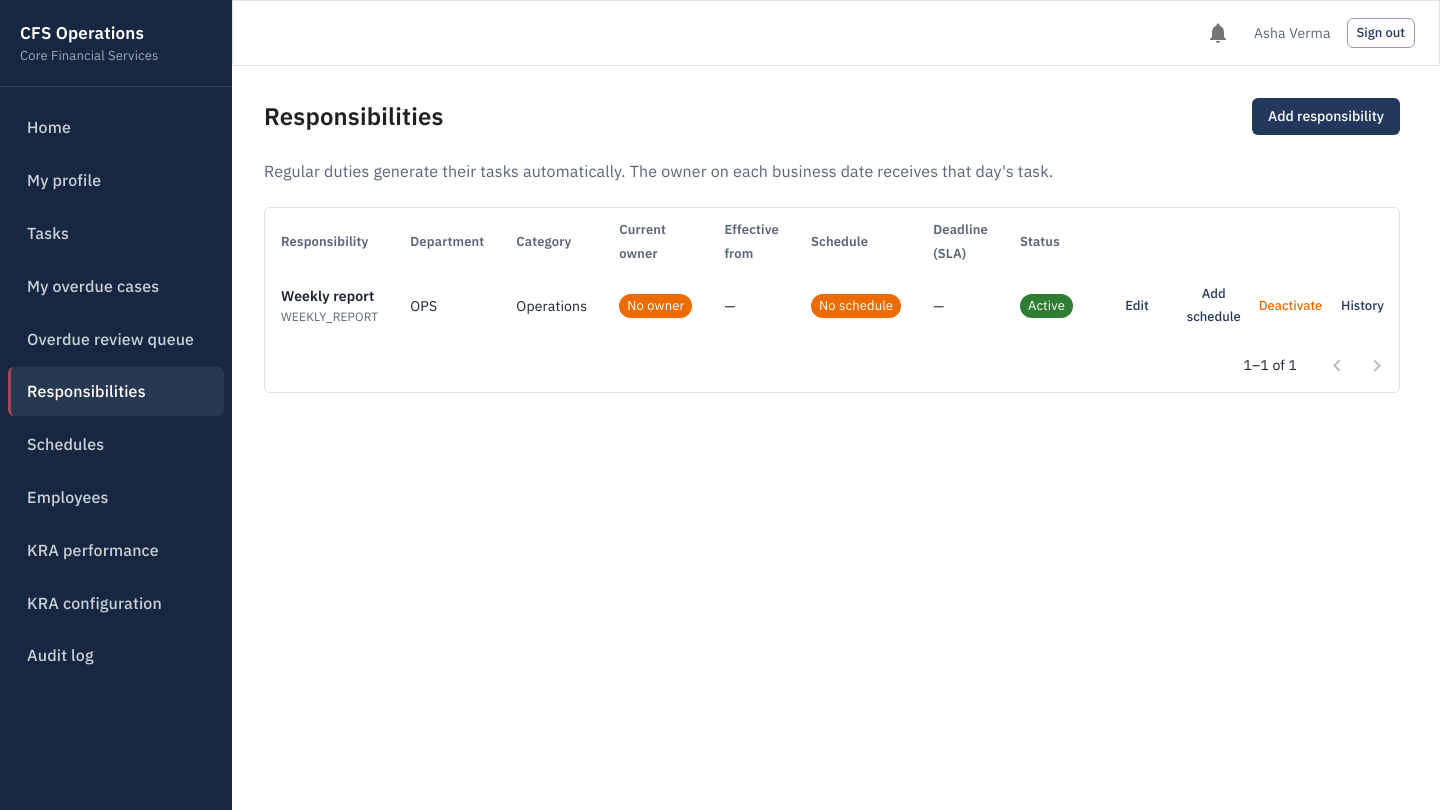
Scenario: Weekly and specific-date schedules (Phase B) › offers the four recurrence options
The width and height of the screenshot is (1440, 810).
Click the button "Add schedule".
click(1214, 306)  # box [1177,279,1251,333]
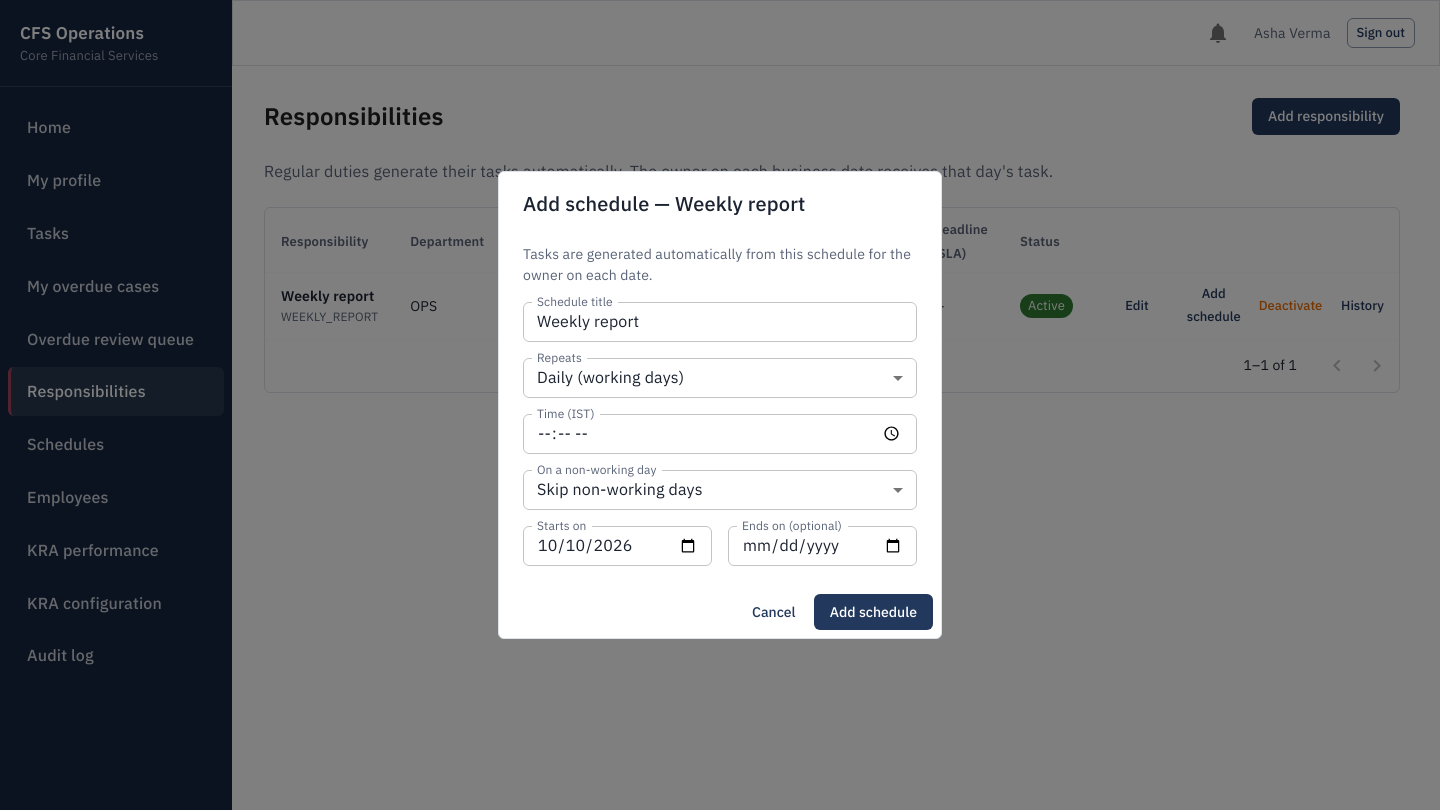
Click the dropdown named "Repeats".
click(611, 377)  # box [537,367,684,387]
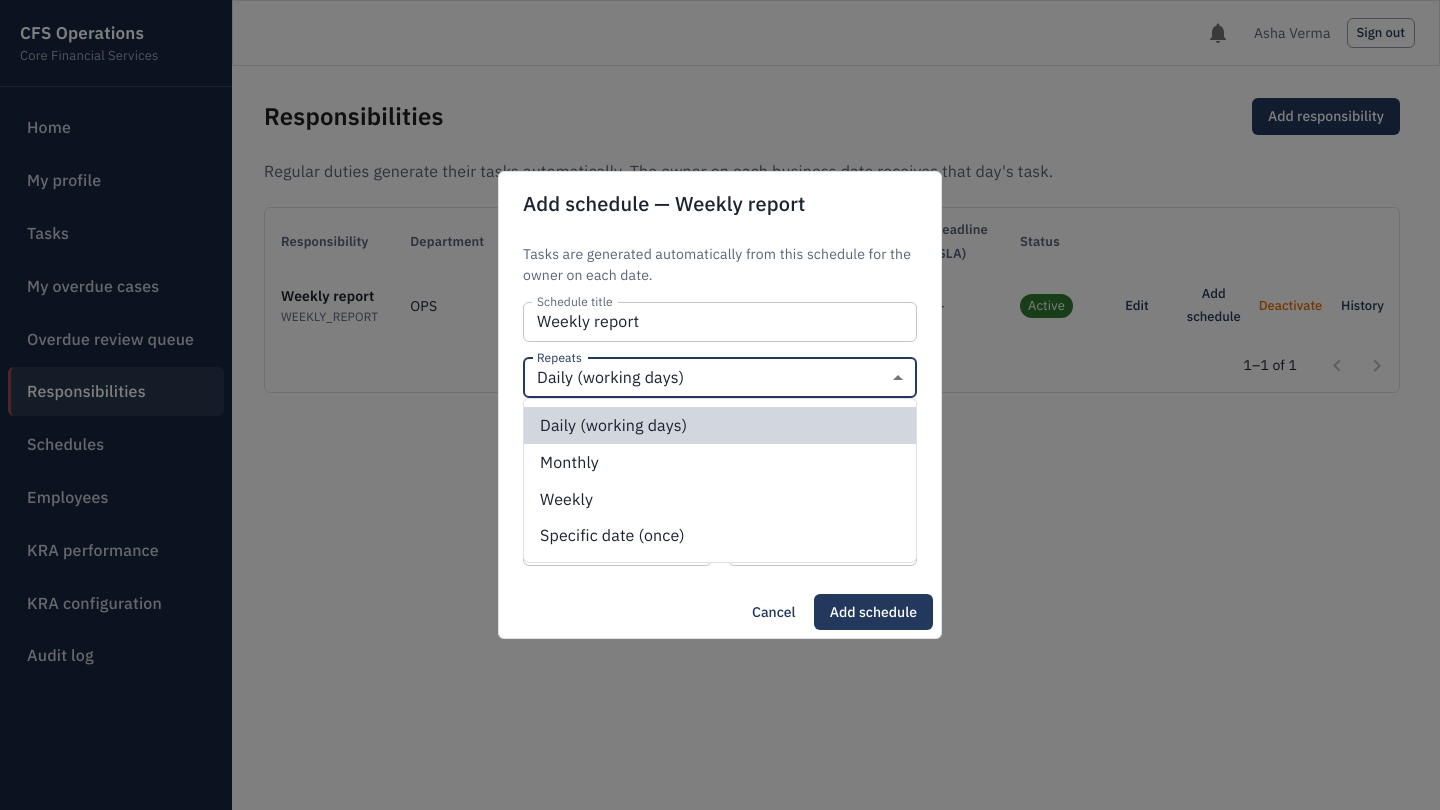
Expected: the options read "Daily (working days)", "Monthly", "Weekly", "Specific date (once)", in this order, [524,407,916,444]; [540,452,599,472]; [540,489,593,509]; [540,525,685,545]
